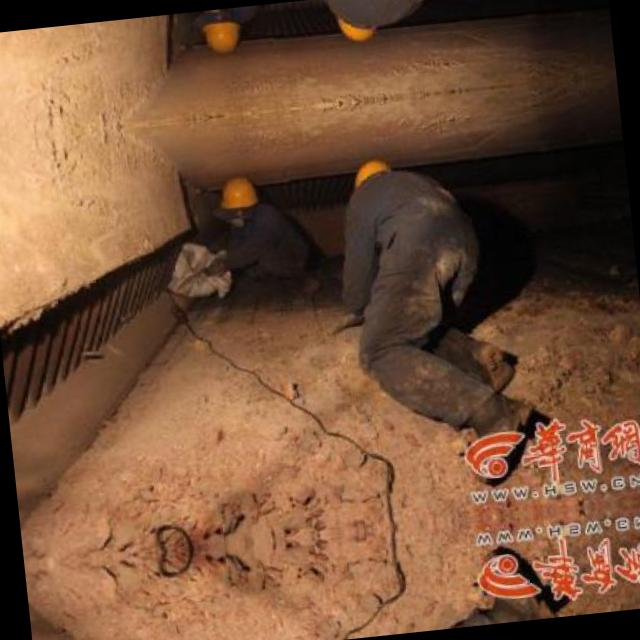helmet: (212, 170, 264, 227), (195, 6, 247, 59), (348, 152, 400, 200), (332, 0, 384, 48)
